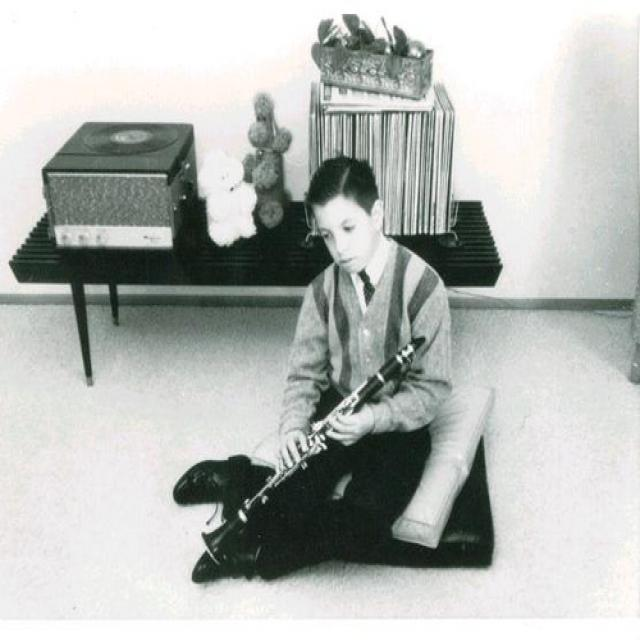clarinet: (200, 335, 427, 566)
